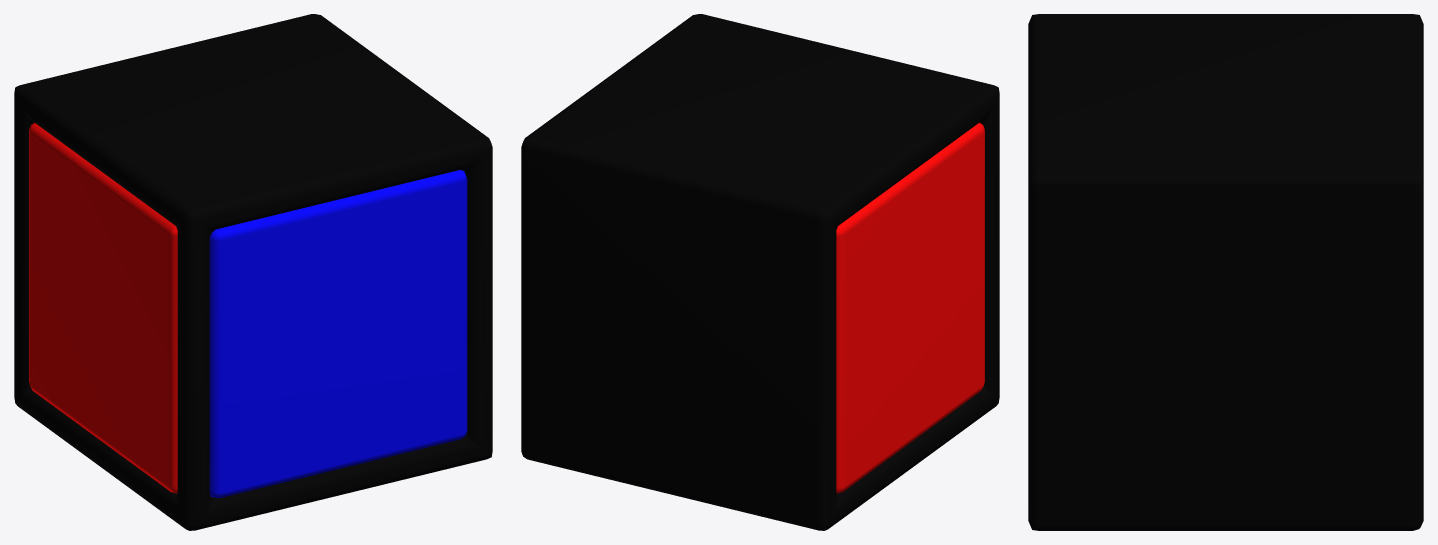
3 renders of one model, left to right at view 1: azimuth 30°, elevation 25°; view 2: azimuth 150°, elevation 25°; view 3: azimuth 270°, elevation 25°, orthographic. The views are drawn at different scales.
Visible parts, largest first — view 1: Cube.011; view 2: Cube.011; view 3: Cube.011.
Part boxes in pixels (x1,y1,x2,y2): Cube.011: [14, 14, 492, 530]; Cube.011: [521, 14, 999, 530]; Cube.011: [1028, 14, 1423, 530].
Size of the model in its own units: 2 by 2 by 2.
